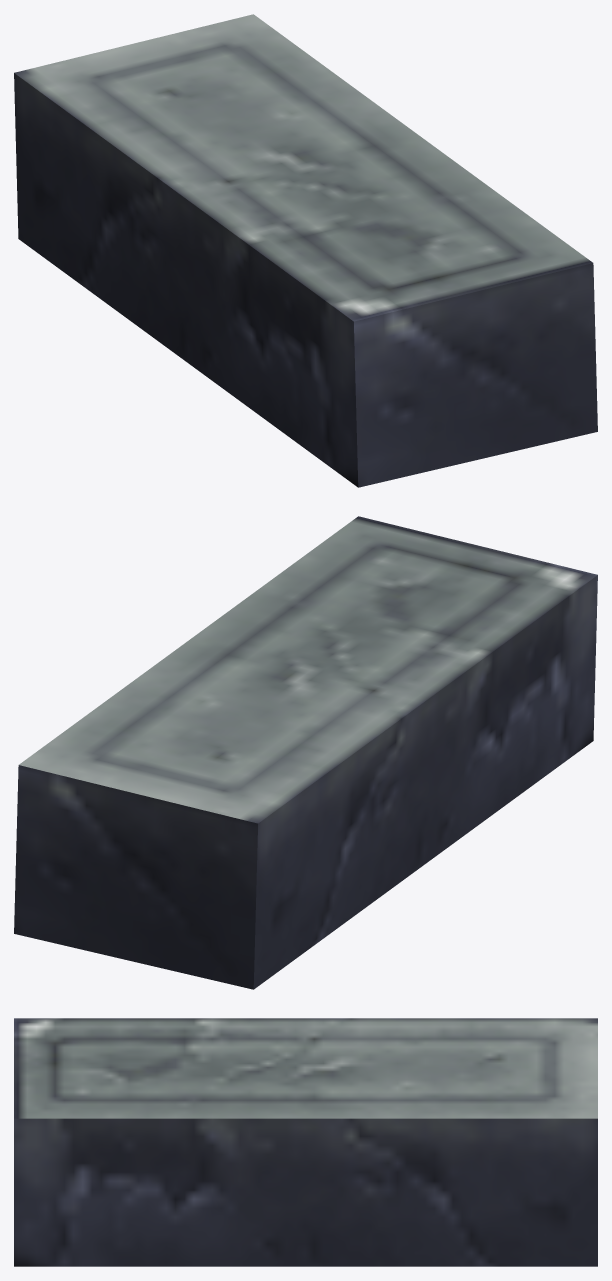
Rendered from qiaoKuai01.FBX.
3 renders of one model, top to bottom at view 1: azimuth 30°, elevation 25°; view 2: azimuth 150°, elevation 25°; view 3: azimuth 270°, elevation 25°, orthographic. The views are drawn at different scales.
Parts seen in each view (by area): view 1: qiaoKuai; view 2: qiaoKuai; view 3: qiaoKuai.
Part boxes in pixels (x1,y1,x2,y2): qiaoKuai: (14,14,597,487); qiaoKuai: (14,516,597,989); qiaoKuai: (14,1018,597,1266).
Bounding box in the file's own units: 131 × 316 × 87.23.
